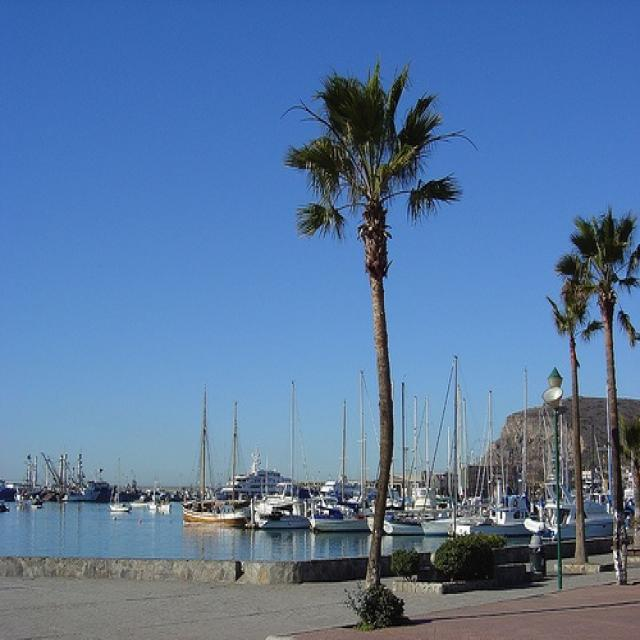boat: (422, 350, 482, 537), (183, 379, 247, 529), (311, 370, 370, 532), (252, 375, 312, 531), (378, 391, 428, 536), (539, 488, 613, 539), (456, 495, 534, 539), (219, 449, 289, 495)
